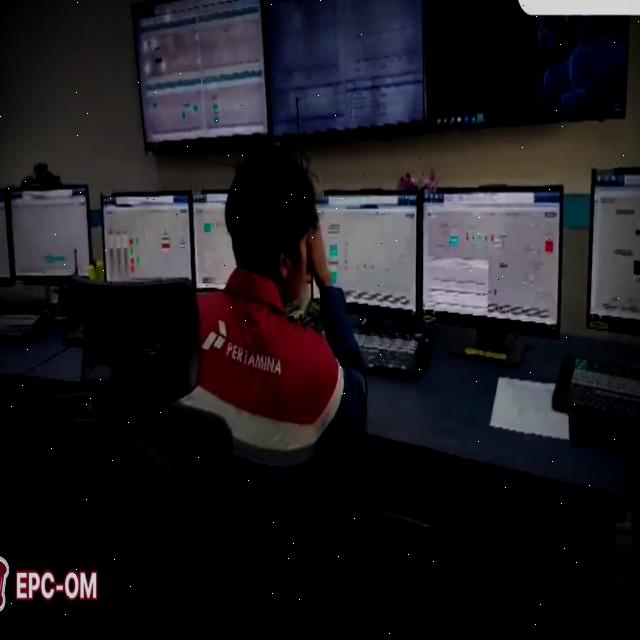No Glove: (305, 213, 331, 286)
No Hardhat: (220, 139, 318, 214)
Overall Suit: (199, 280, 368, 612)
